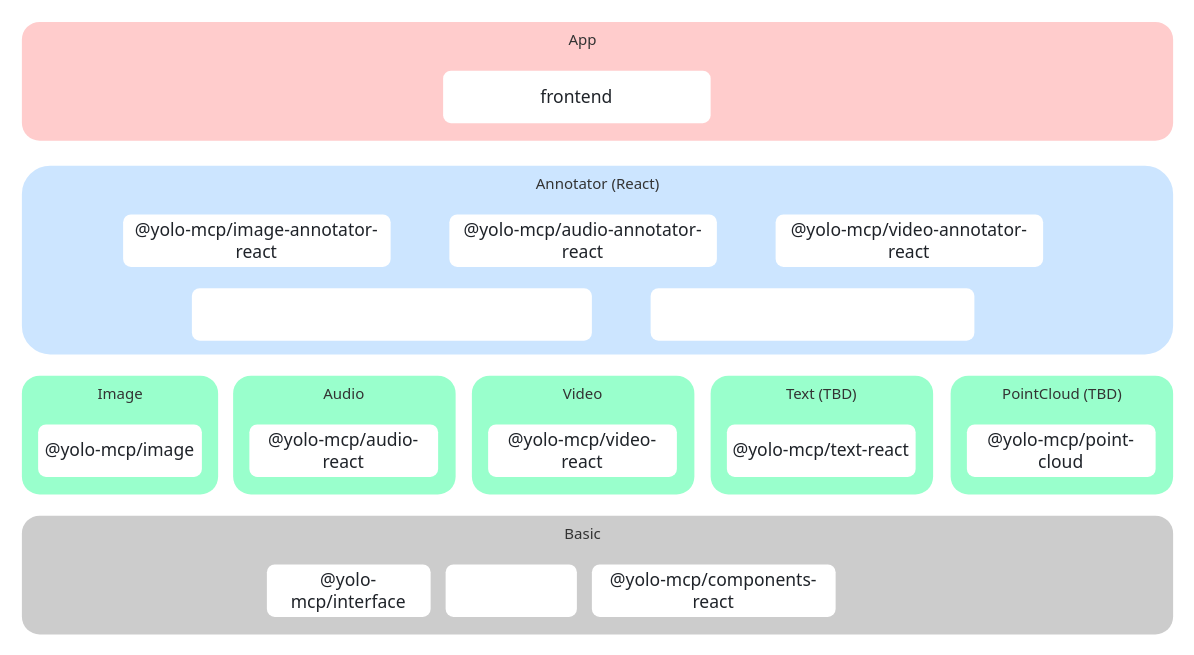
The diagram is 1194 pixels wide and 655 high, and some of its shapes have lost their labels. The centre of each missing label's shape, as x and y in pixels:
"@yolo-mcp/point-cloud-annotator-react (TBD)" belongs at [391,314].
"@yolo-mcp/text-annotator-react (TBD)" belongs at [812,314].
"@yolo-mcp/utils" belongs at [510,590].
